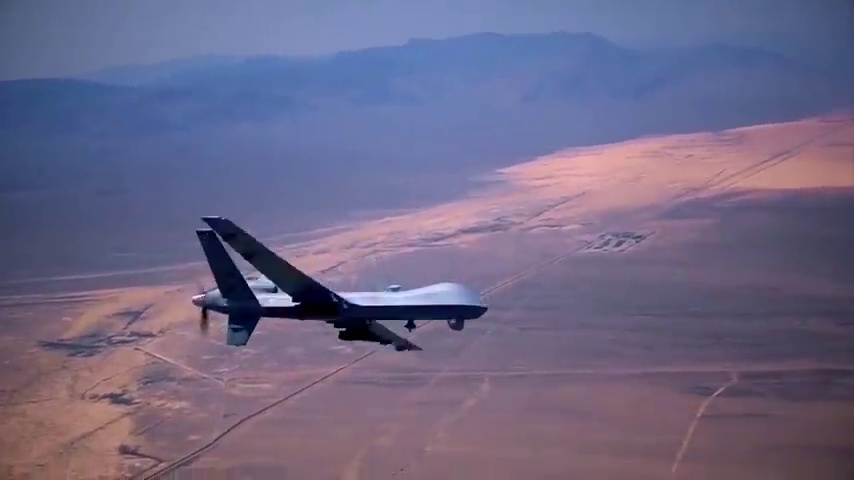military drone: (191, 214, 487, 351)
